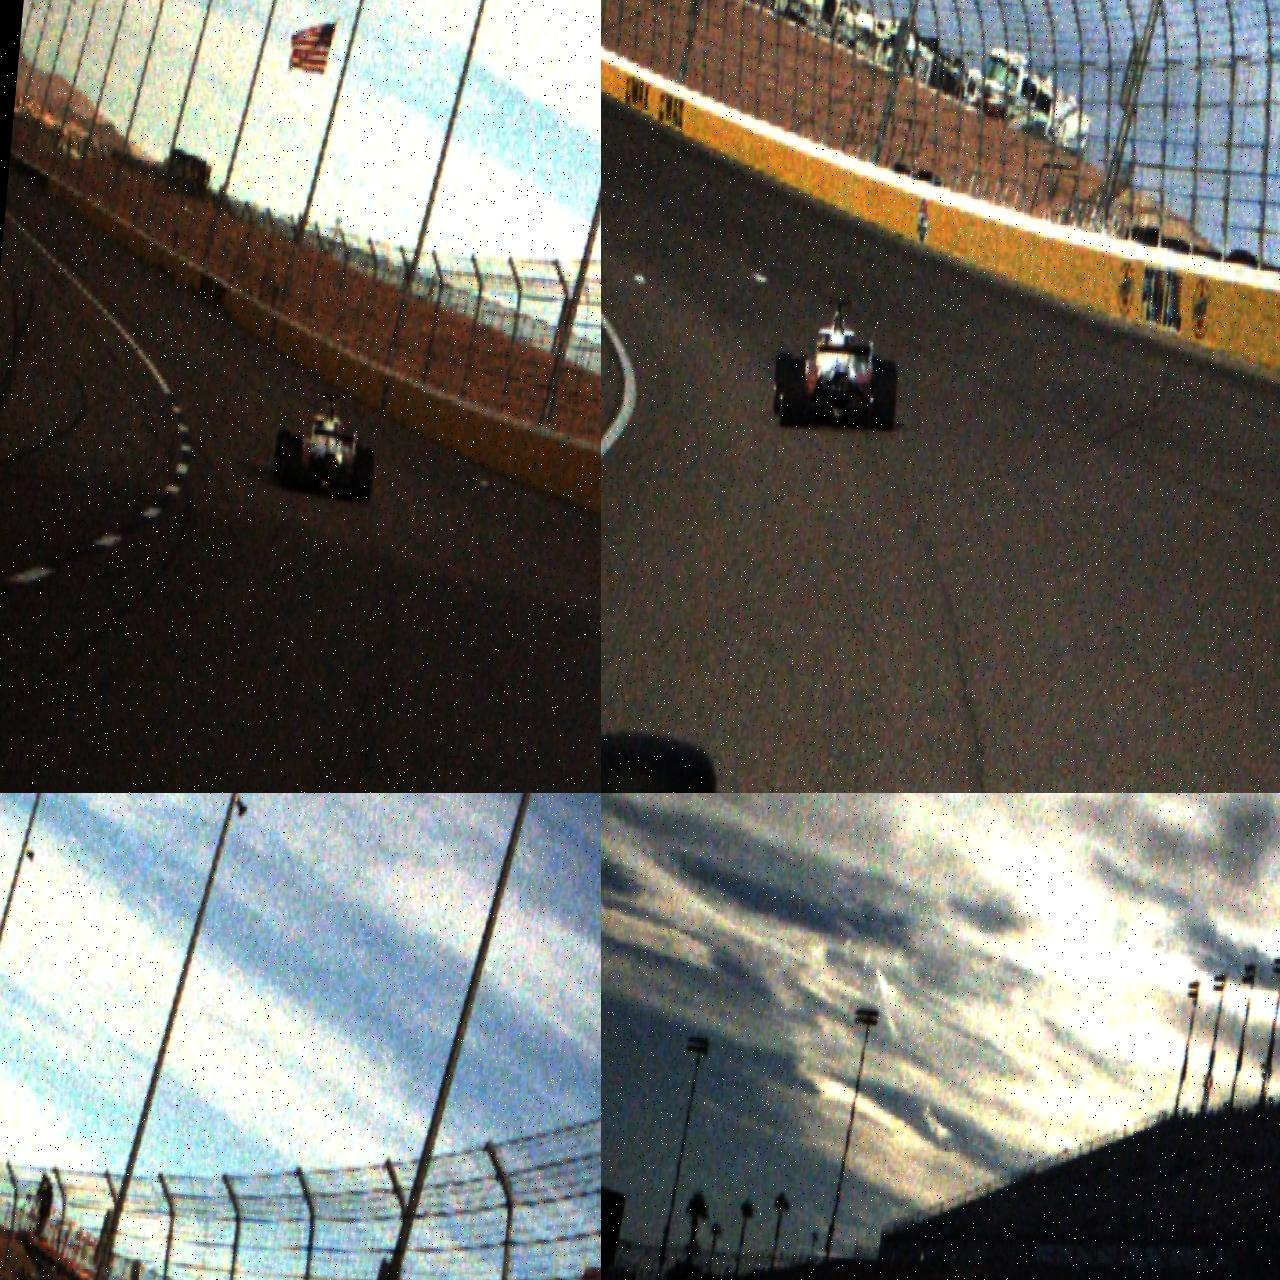AV: (770, 292, 904, 438), (270, 387, 380, 505)
Wheel: (870, 360, 899, 433), (778, 358, 808, 428), (771, 351, 793, 416), (352, 446, 376, 504), (280, 436, 303, 492), (272, 428, 292, 482)
